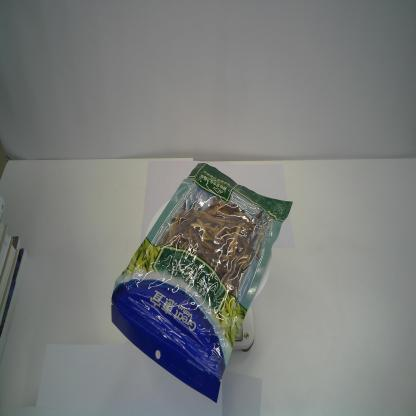Dried Food: (110, 162, 293, 401)
